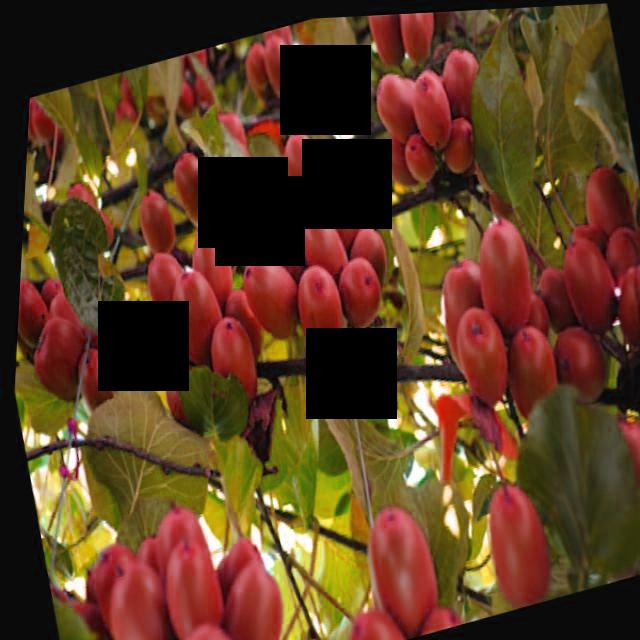kiwi: (360, 501, 451, 640), (477, 477, 563, 614), (465, 211, 546, 342), (149, 500, 226, 636), (155, 528, 238, 640), (96, 547, 192, 640), (449, 301, 520, 416), (499, 321, 570, 436), (213, 555, 302, 640), (164, 265, 232, 375), (87, 538, 160, 640), (233, 246, 308, 345), (24, 308, 96, 411), (588, 407, 640, 543), (575, 164, 640, 272), (557, 234, 623, 338), (208, 532, 279, 628), (199, 311, 266, 411), (548, 319, 616, 415), (287, 256, 351, 358), (140, 247, 198, 344), (183, 217, 241, 314), (531, 258, 592, 349), (257, 209, 314, 301), (365, 68, 425, 155), (595, 224, 640, 339), (274, 125, 331, 215), (401, 68, 457, 156), (331, 253, 390, 336), (165, 146, 220, 234), (432, 47, 486, 133), (314, 189, 372, 269), (72, 342, 128, 424), (160, 358, 217, 436), (343, 223, 394, 301), (134, 185, 181, 257), (15, 270, 55, 350), (256, 33, 300, 104), (343, 596, 411, 640), (608, 266, 640, 358), (376, 132, 424, 192), (387, 12, 437, 69), (359, 13, 405, 74), (436, 119, 481, 178), (399, 128, 440, 192), (169, 612, 251, 640), (63, 177, 101, 237), (416, 604, 465, 636), (27, 99, 57, 142), (24, 90, 46, 144), (24, 95, 32, 146)
